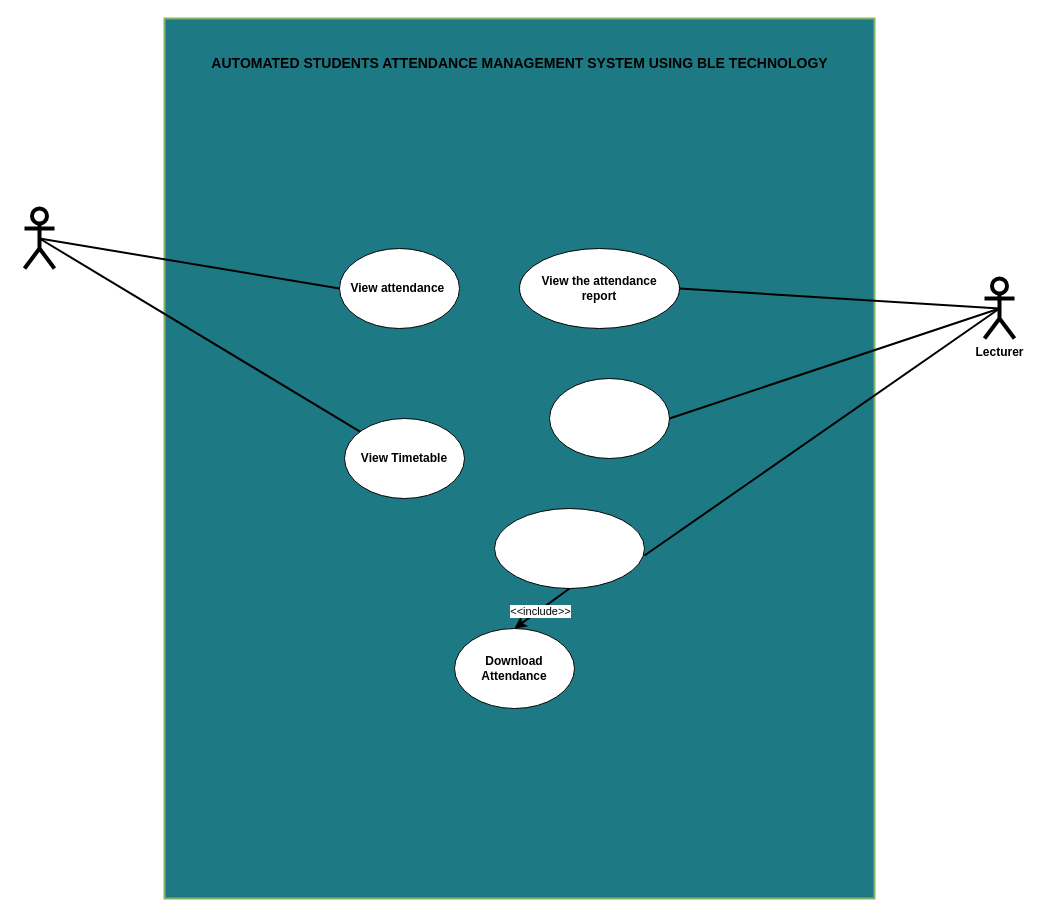
This 1041x916 diagram has some shape labels left out. The centre of each missing label's shape, as x and y in pixels:
"Manage attendance data" goes at point (569, 548).
"Student" goes at point (39, 238).
"Update Timetable" goes at point (609, 418).
